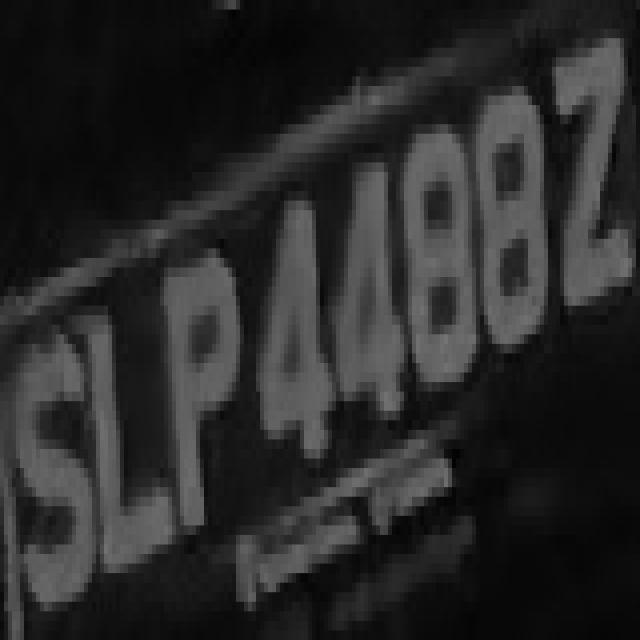4: (236, 191, 336, 497), (316, 153, 412, 468)
8: (392, 114, 476, 430), (468, 77, 548, 382)
L: (80, 277, 164, 592)
P: (152, 220, 252, 525)
S: (8, 315, 92, 621)
Z: (536, 29, 628, 334)
